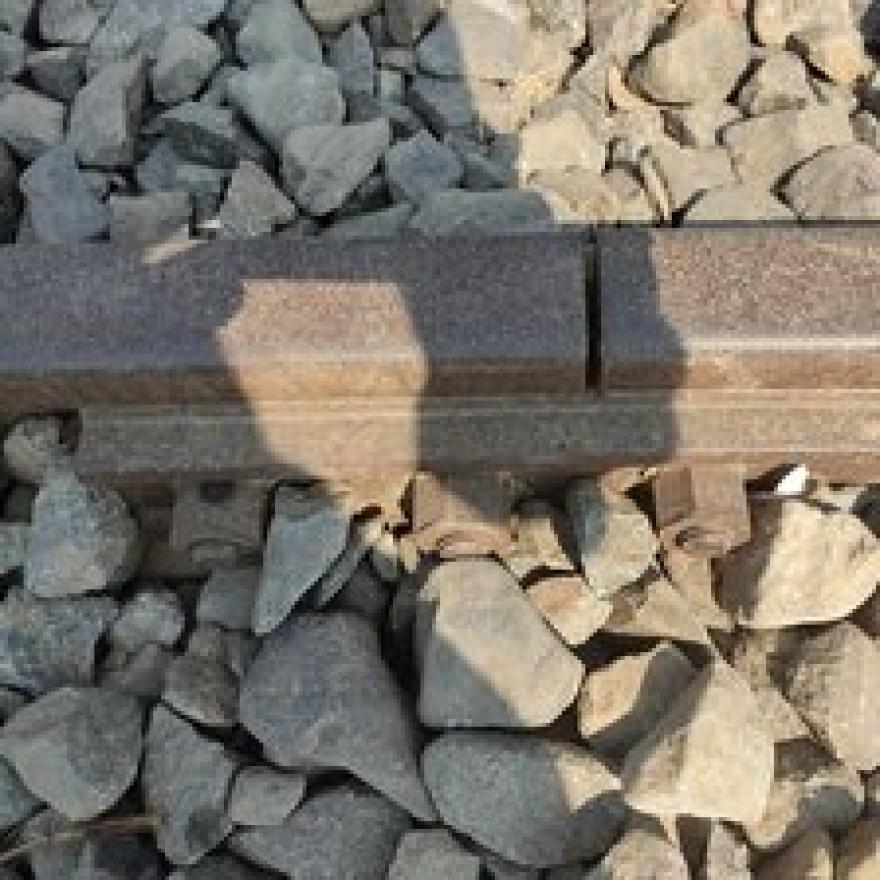railway-gap: (475, 207, 715, 425)
